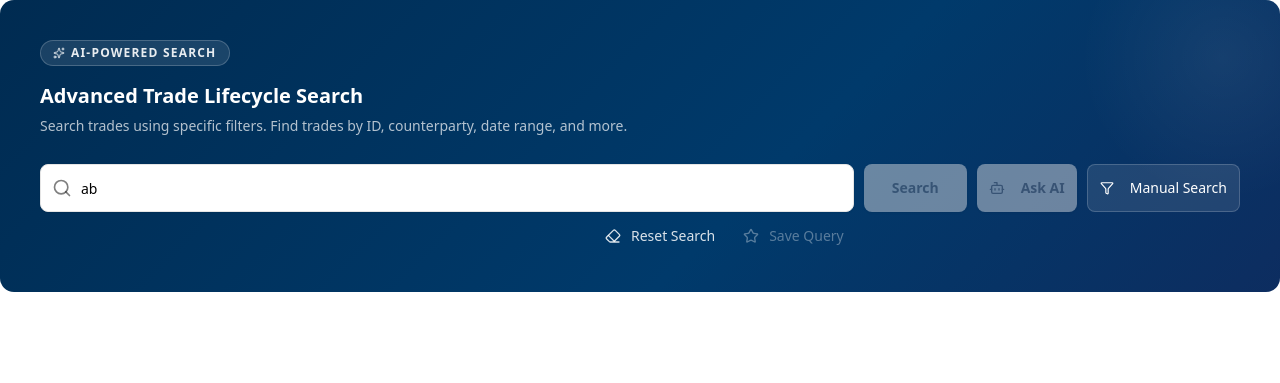
SearchHeader › Search Button › shows validation error for short queries when searching
The image size is (1280, 383).
Click the field with placeholder "Search by trade ID" at (447, 188), box x1=40 y1=164 x2=854 y2=212
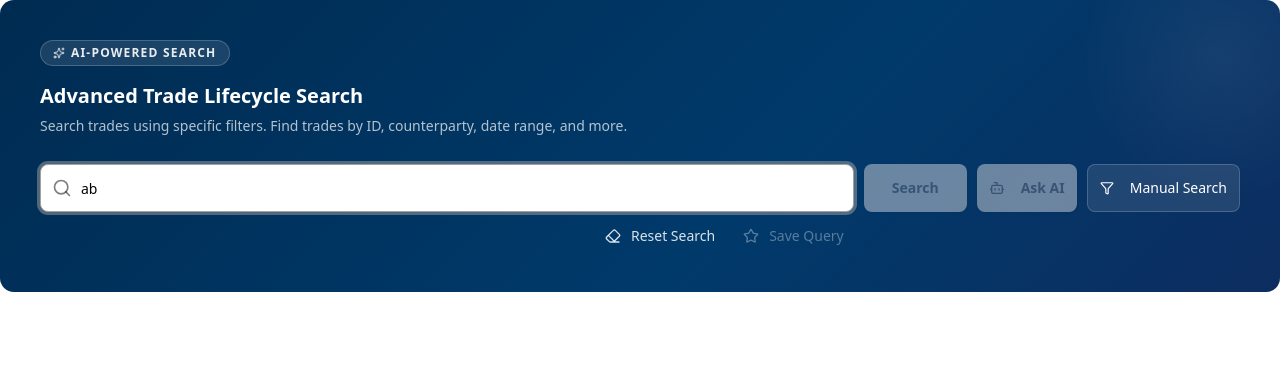
Press Enter
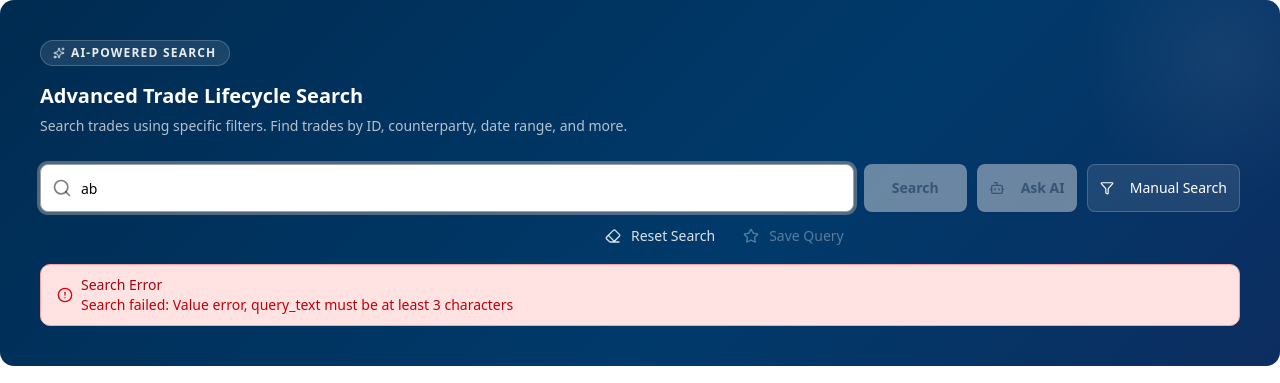
Expected: the text "at least 3 characters" is shown, x1=81 y1=295 x2=513 y2=314
